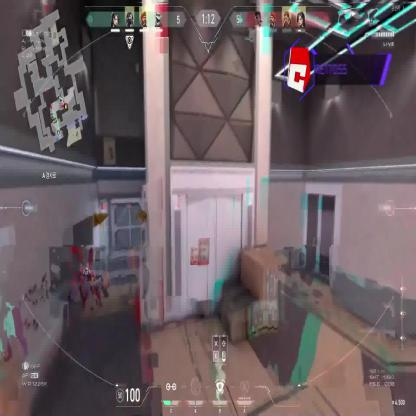enemy: (74, 245, 105, 312)
enemy_head: (83, 266, 91, 278)
